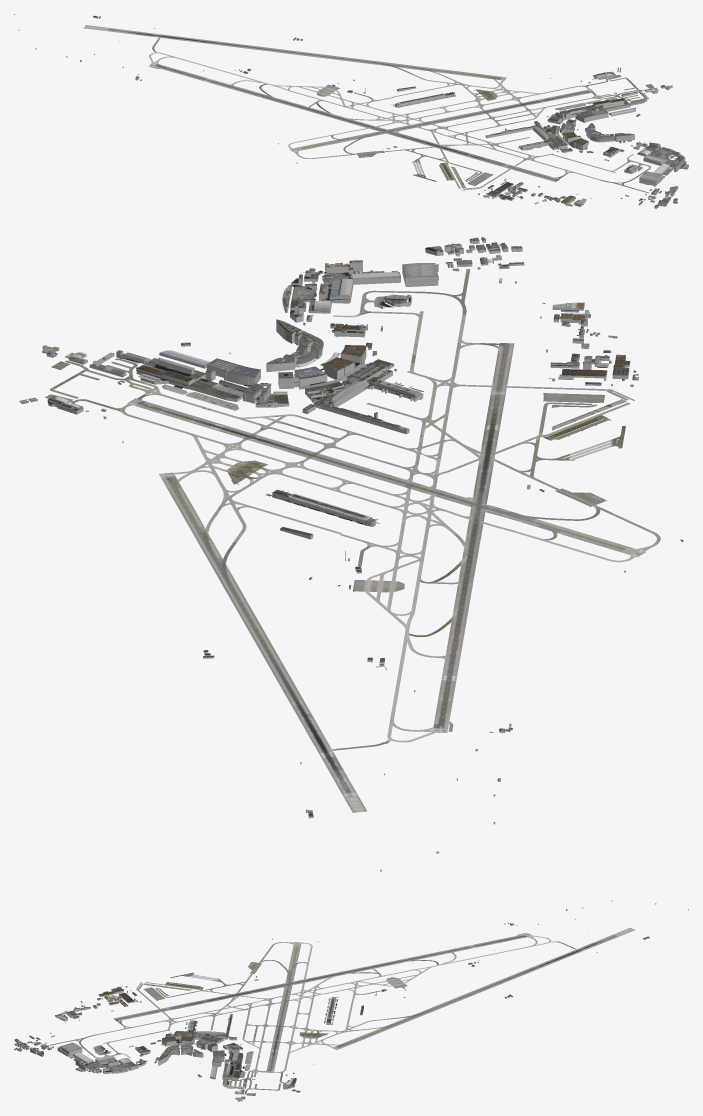
The model's file is LSZH_Airport.glb.
The picture shows the model from 3 angles, top to bottom: view 1: azimuth 30°, elevation 25°; view 2: azimuth 150°, elevation 25°; view 3: azimuth 270°, elevation 25°; orthographic projection. The views are drawn at different scales.
Parts seen in each view (by area): view 1: pavement_LSZH_pavement_5367_2513, building_6ed3b0851f7eae46, pavement_LSZH_pavement_5369_2514, pavement_LSZH_pavement_5367_2514, pavement_LSZH_pavement_5368_2513, pavement_LSZH_pavement_5369_2513, pavement_LSZH_pavement_5367_2512, pavement_LSZH_pavement_5370_2513, building_f4006b69231a956e, pavement_LSZH_pavement_5368_2512, building_251186a55e0c95b6, building_7729949113874942 (+11 smaller); view 2: building_6ed3b0851f7eae46, pavement_LSZH_pavement_5367_2513, pavement_LSZH_pavement_5369_2514, pavement_LSZH_pavement_5367_2512, building_f4006b69231a956e, pavement_LSZH_pavement_5367_2514, pavement_LSZH_pavement_5369_2513, pavement_LSZH_pavement_5368_2513, pavement_LSZH_pavement_5370_2513, building_251186a55e0c95b6, building_7729949113874942, building_f046a672df22ce59 (+13 smaller); view 3: pavement_LSZH_pavement_5369_2514, pavement_LSZH_pavement_5367_2513, pavement_LSZH_pavement_5367_2512, building_6ed3b0851f7eae46, pavement_LSZH_pavement_5367_2514, pavement_LSZH_pavement_5368_2513, pavement_LSZH_pavement_5369_2513, building_f4006b69231a956e, building_7729949113874942, pavement_LSZH_pavement_5370_2513, pavement_LSZH_pavement_5368_2512, pavement_LSZH_pavement_5367_2515 (+7 smaller).
Part boxes in pixels (bbox=[...]): pavement_LSZH_pavement_5367_2513: bbox=[368, 121, 458, 154]; building_6ed3b0851f7eae46: bbox=[486, 121, 572, 151]; pavement_LSZH_pavement_5369_2514: bbox=[452, 74, 534, 105]; pavement_LSZH_pavement_5367_2514: bbox=[345, 96, 421, 134]; pavement_LSZH_pavement_5368_2513: bbox=[428, 106, 508, 142]; pavement_LSZH_pavement_5369_2513: bbox=[483, 93, 564, 124]; pavement_LSZH_pavement_5367_2512: bbox=[412, 145, 481, 181]; pavement_LSZH_pavement_5370_2513: bbox=[543, 78, 630, 109]; building_f4006b69231a956e: bbox=[547, 97, 630, 122]; pavement_LSZH_pavement_5368_2512: bbox=[459, 138, 548, 166]; building_251186a55e0c95b6: bbox=[485, 122, 572, 152]; building_7729949113874942: bbox=[639, 151, 679, 183]; building_6ed3b0851f7eae46: bbox=[301, 359, 423, 430]; pavement_LSZH_pavement_5367_2513: bbox=[404, 445, 550, 516]; pavement_LSZH_pavement_5369_2514: bbox=[159, 439, 290, 507]; pavement_LSZH_pavement_5367_2512: bbox=[463, 404, 625, 462]; building_f4006b69231a956e: bbox=[136, 357, 288, 404]; pavement_LSZH_pavement_5367_2514: bbox=[339, 491, 507, 557]; pavement_LSZH_pavement_5369_2513: bbox=[187, 402, 339, 462]; pavement_LSZH_pavement_5368_2513: bbox=[292, 428, 461, 486]; pavement_LSZH_pavement_5370_2513: bbox=[80, 364, 229, 433]; building_251186a55e0c95b6: bbox=[302, 362, 423, 434]; building_7729949113874942: bbox=[319, 263, 438, 300]; building_f046a672df22ce59: bbox=[136, 358, 289, 407]; pavement_LSZH_pavement_5369_2514: bbox=[292, 1028, 355, 1051]; pavement_LSZH_pavement_5367_2513: bbox=[230, 976, 292, 1002]; pavement_LSZH_pavement_5367_2512: bbox=[168, 976, 230, 1002]; building_6ed3b0851f7eae46: bbox=[165, 1014, 236, 1043]; pavement_LSZH_pavement_5367_2514: bbox=[292, 976, 355, 1002]; pavement_LSZH_pavement_5368_2513: bbox=[230, 1002, 292, 1028]; pavement_LSZH_pavement_5369_2513: bbox=[242, 1028, 292, 1054]; building_f4006b69231a956e: bbox=[222, 1043, 245, 1078]; building_7729949113874942: bbox=[58, 1042, 118, 1068]; pavement_LSZH_pavement_5370_2513: bbox=[231, 1054, 291, 1080]; pavement_LSZH_pavement_5368_2512: bbox=[168, 1002, 230, 1028]; pavement_LSZH_pavement_5367_2515: bbox=[355, 976, 416, 995].
Bounding box in the file's own units: 3813 × 55.53 × 5402.
Materials: 3 (2 with a texture image).
